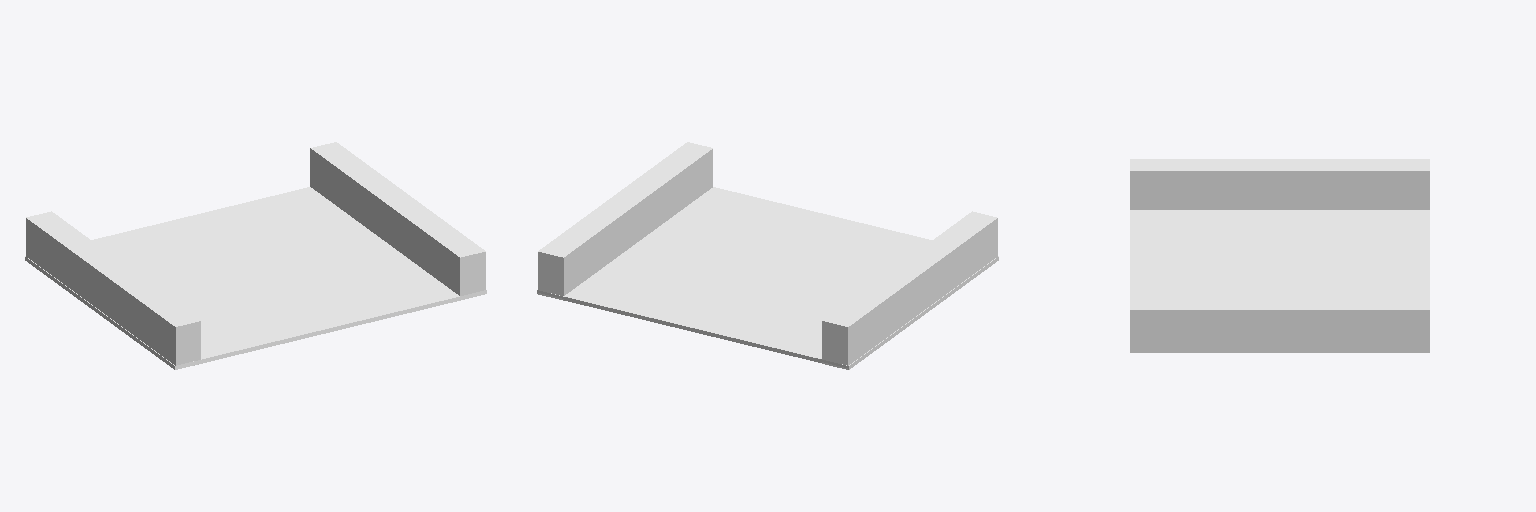
The model's file is WalkableTileModel.obj.
3 views of the same model, side by side, from view 1: azimuth 30°, elevation 25°; view 2: azimuth 150°, elevation 25°; view 3: azimuth 270°, elevation 25° (orthographic).
Visible parts, largest first — view 1: WalkableTileModel; view 2: WalkableTileModel; view 3: WalkableTileModel.
Boxes of the visible parts, x1=… form: WalkableTileModel: x1=25, y1=142, x2=486, y2=369; WalkableTileModel: x1=537, y1=142, x2=998, y2=369; WalkableTileModel: x1=1130, y1=159, x2=1429, y2=352.
Size of the model in its own units: 12.03 by 1.58 by 10.03.